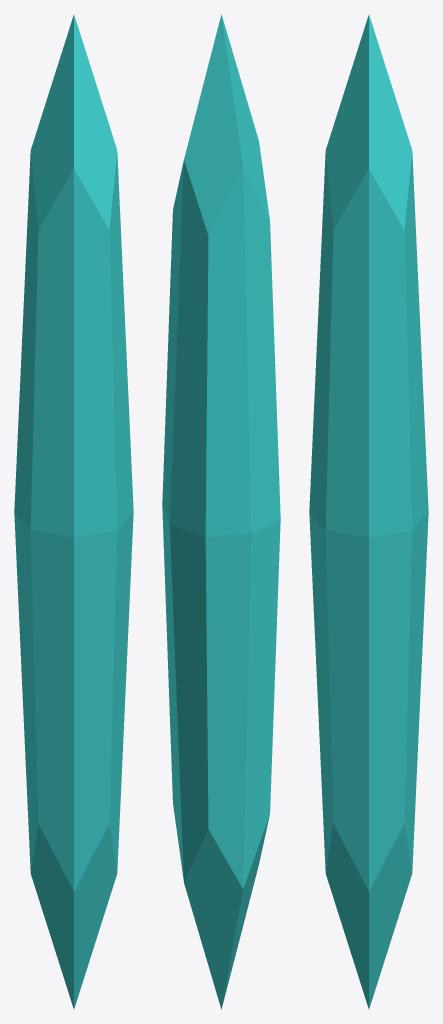
Rendered from Nucleo4.glb.
3 views of the same model, side by side, from view 1: azimuth 90°, elevation 25°; view 2: azimuth 210°, elevation 25°; view 3: azimuth 270°, elevation 25° (orthographic).
Visible parts, largest first — view 1: Cube; view 2: Cube; view 3: Cube.
Boxes of the visible parts, box(x1,y1,x2,y2) form: Cube: box(14, 15, 133, 1008); Cube: box(162, 14, 280, 1009); Cube: box(309, 15, 428, 1008).
Bounding box in the file's own units: 1.68 × 15.46 × 1.68.
